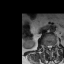CCS_normal: (49, 43, 50, 51)
LFS_stenosis: (52, 43, 54, 48)
LLS_normal: (50, 43, 52, 49)
RFS_stenosis: (45, 44, 47, 49)
RLS_normal: (47, 43, 49, 49)
